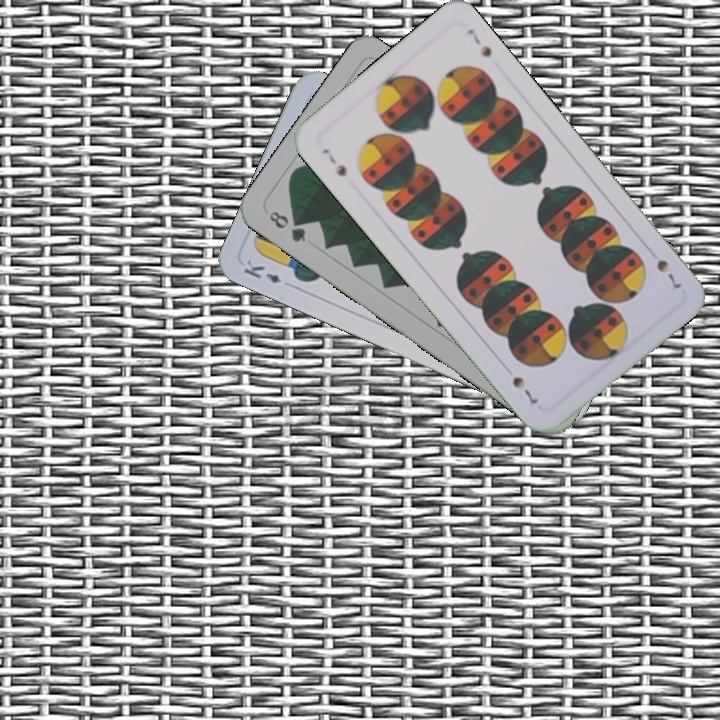EK: (239, 255, 284, 286)
G8: (264, 207, 309, 245)
S7: (652, 255, 685, 292), (318, 144, 349, 179)
